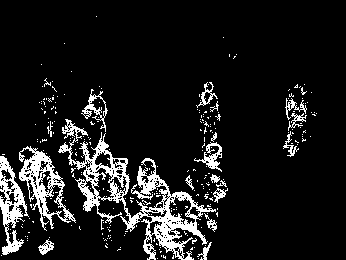person: (18, 146, 79, 253), (146, 191, 207, 260), (93, 147, 132, 240), (58, 118, 96, 212), (186, 146, 228, 220), (126, 156, 168, 227), (1, 154, 24, 254), (282, 84, 310, 156), (195, 82, 220, 144), (83, 85, 110, 138), (41, 78, 59, 139)
